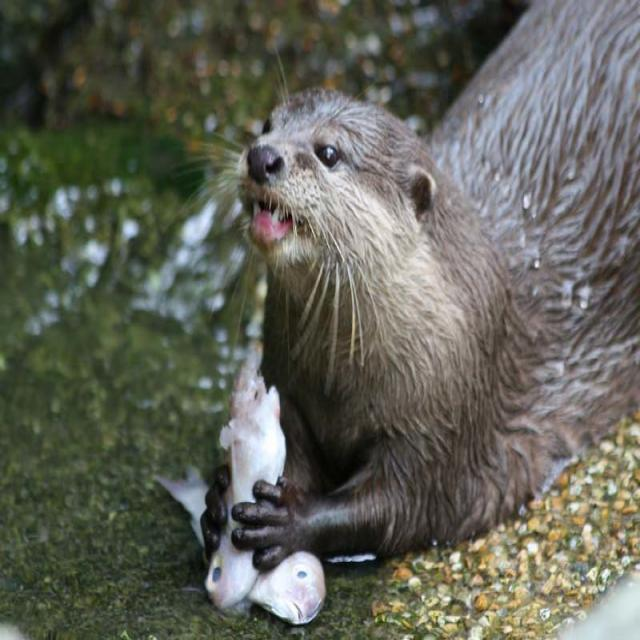otter: (201, 1, 640, 571)
